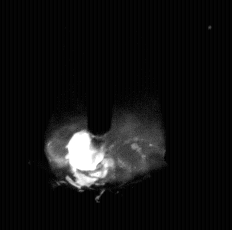arame: (87, 0, 112, 136)
poca: (44, 0, 166, 230)
